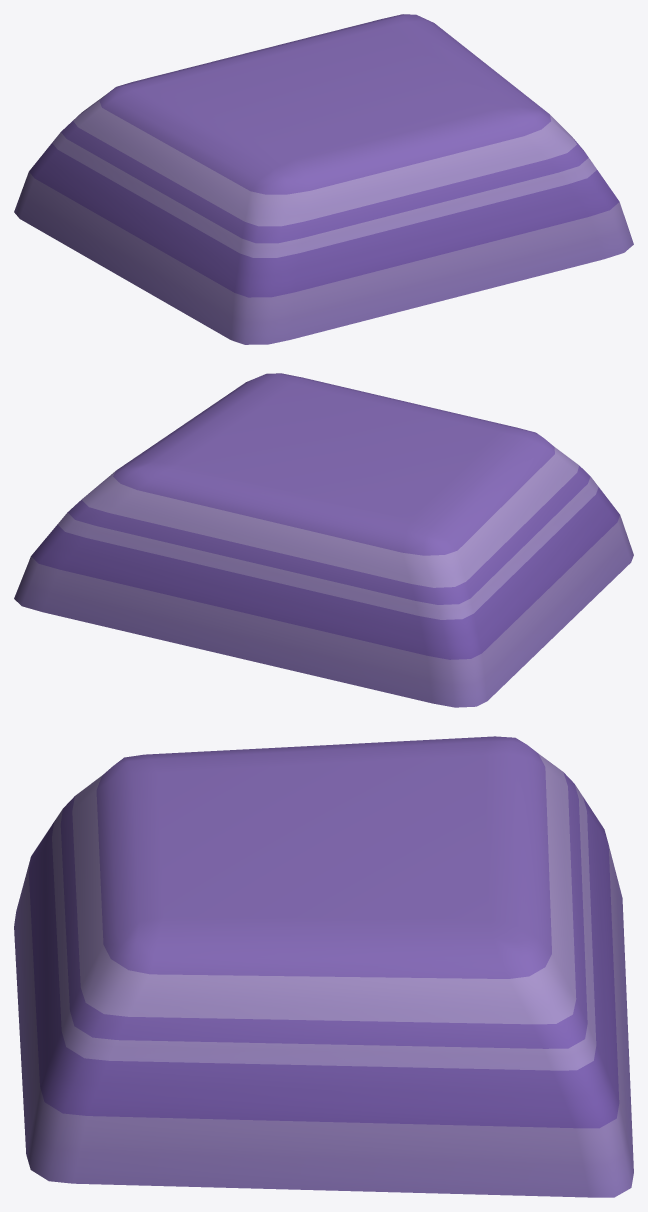
File: Rock_08.glb
The picture shows the model from 3 angles, top to bottom: view 1: azimuth 30°, elevation 25°; view 2: azimuth 150°, elevation 25°; view 3: azimuth 270°, elevation 25°; orthographic projection. The views are drawn at different scales.
Visible parts, largest first — view 1: Rock_08; view 2: Rock_08; view 3: Rock_08.
Boxes of the visible parts, bbox=[...] form: Rock_08: bbox=[14, 14, 633, 344]; Rock_08: bbox=[14, 373, 633, 707]; Rock_08: bbox=[14, 736, 633, 1197].
Size of the model in its own units: 18.12 by 4.96 by 14.52.
Materials: 1 (1 with a texture image).
